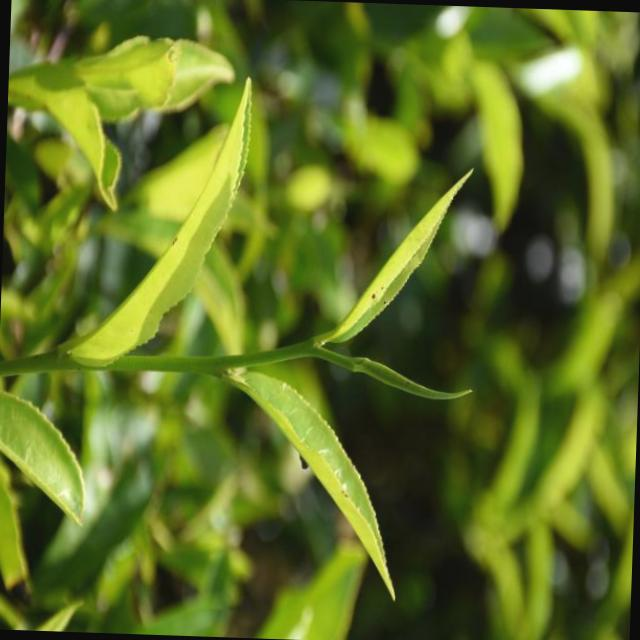Stem: (197, 356, 219, 373)
